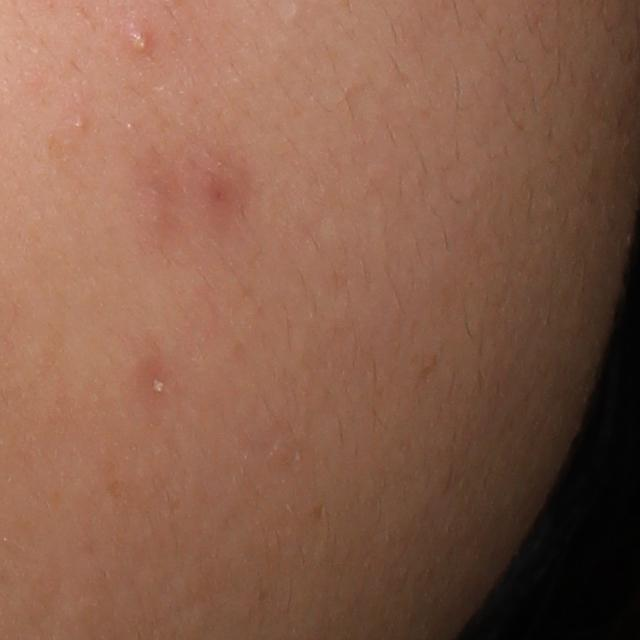comedo: (71, 117, 88, 133)
pustule: (125, 27, 153, 59)
